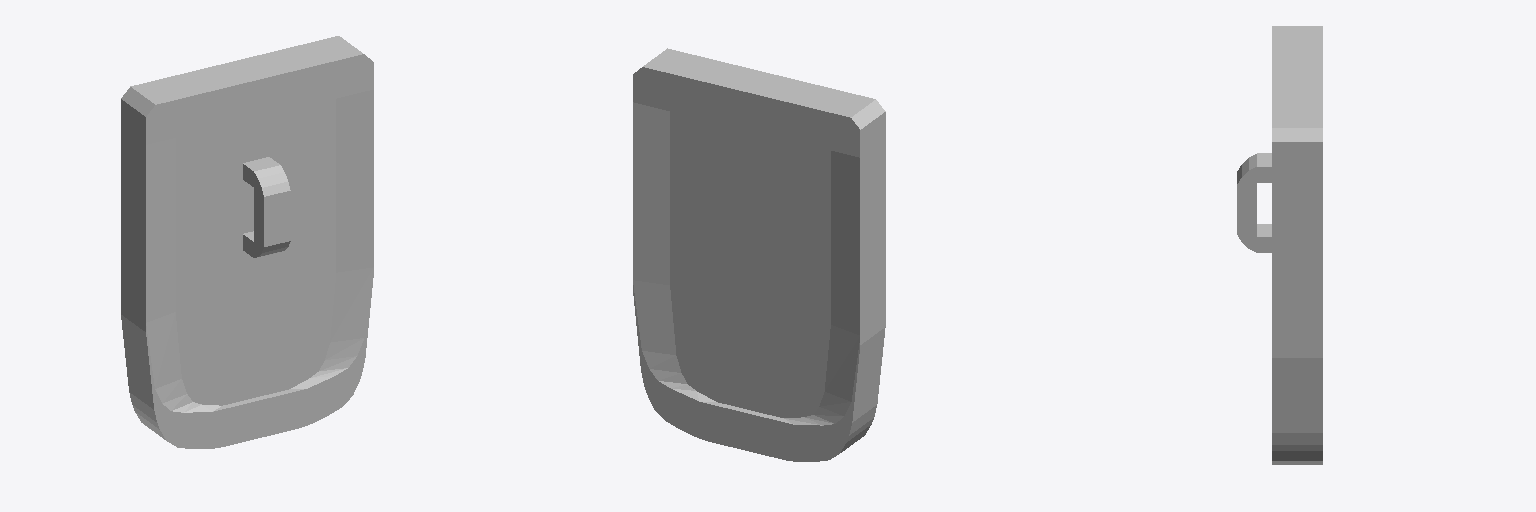
Rendered from Shield(Substance).obj.
The picture shows the model from 3 angles: view 1: azimuth 30°, elevation 25°; view 2: azimuth 150°, elevation 25°; view 3: azimuth 270°, elevation 25°; orthographic projection.
Parts seen in each view (by area): view 1: pPlane1_pPlane1; view 2: pPlane1_pPlane1; view 3: pPlane1_pPlane1.
Part boxes in pixels (left/top/right/bottom): pPlane1_pPlane1: left=121, top=36, right=373, bottom=448; pPlane1_pPlane1: left=633, top=48, right=885, bottom=461; pPlane1_pPlane1: left=1237, top=26, right=1322, bottom=464.
Bounding box in the file's own units: 2.41 × 3.62 × 0.7812.